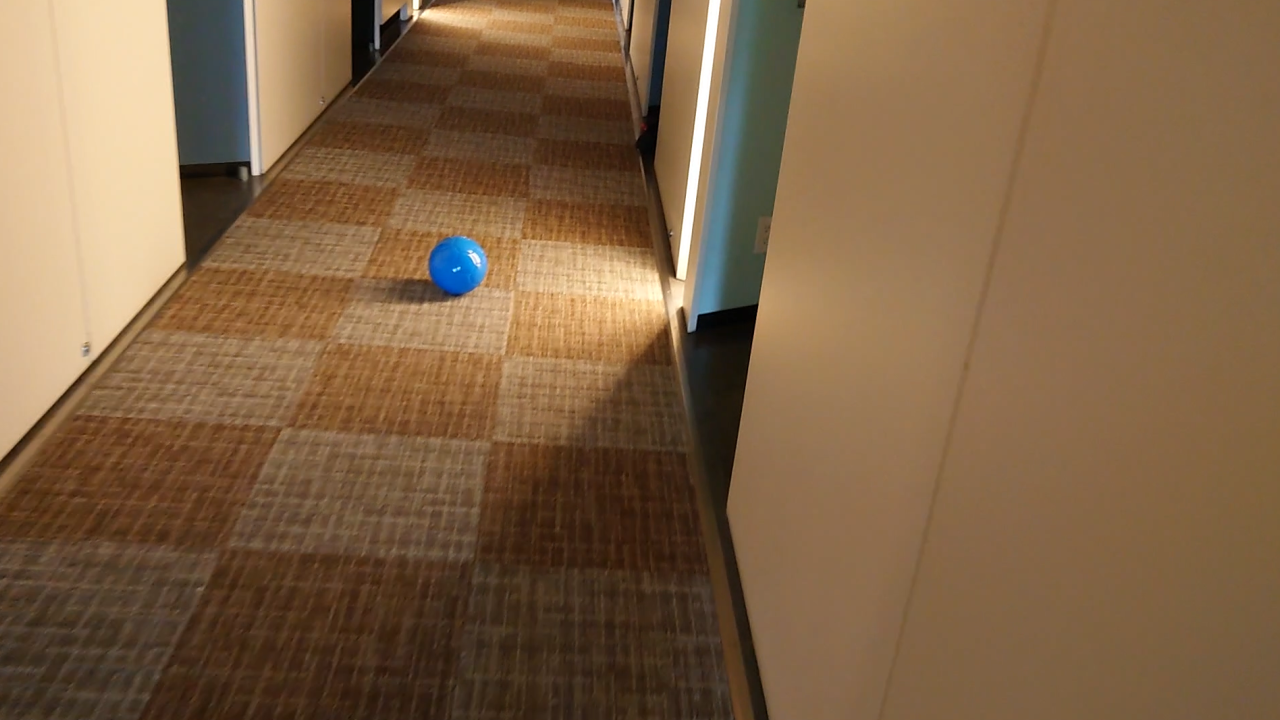blue: (430, 234, 485, 297)
